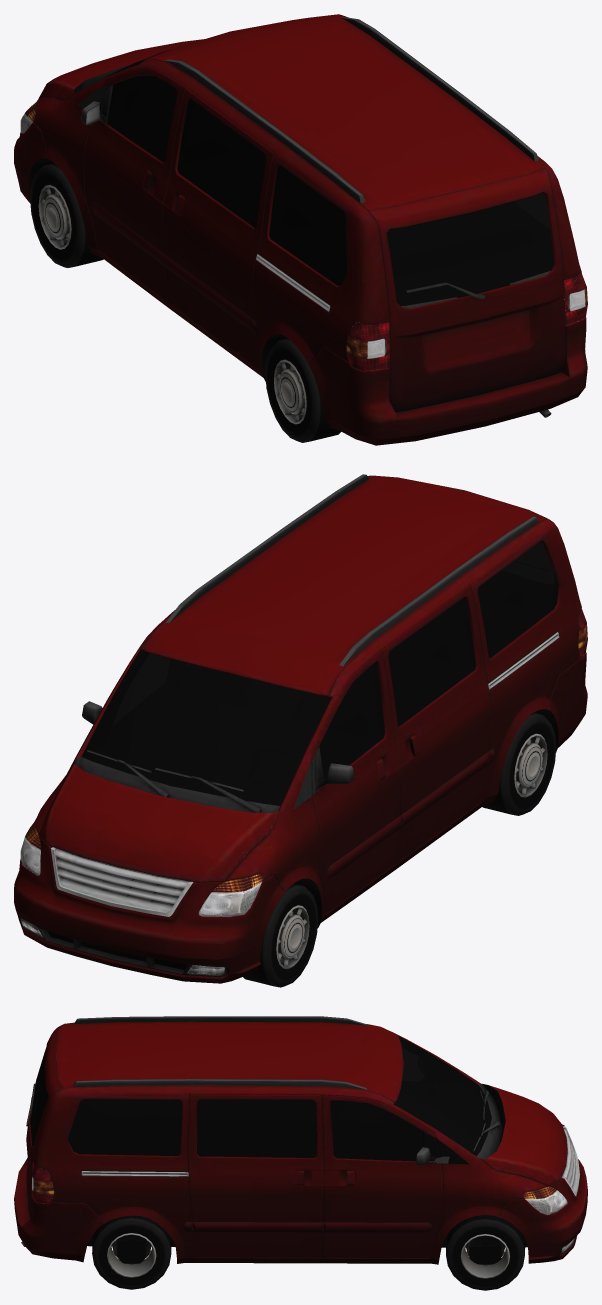
File: minivan.glb
3 renders of one model, top to bottom at view 1: azimuth 30°, elevation 25°; view 2: azimuth 150°, elevation 25°; view 3: azimuth 270°, elevation 25°, orthographic. The views are drawn at different scales.
Parts seen in each view (by area): view 1: minivan_body, wheel_0, wheel_2; view 2: minivan_body, wheel_2, wheel_0; view 3: minivan_body, wheel_3, wheel_1.
Boxes of the visible parts, <box> form: minivan_body: <box>14,14,587,445</box>; wheel_0: <box>265,338,341,442</box>; wheel_2: <box>30,163,103,267</box>; minivan_body: <box>14,474,587,983</box>; wheel_2: <box>243,883,318,987</box>; wheel_0: <box>482,712,556,815</box>; minivan_body: <box>14,1016,587,1264</box>; wheel_3: <box>446,1215,525,1290</box>; wheel_1: <box>92,1215,171,1289</box>.
Size of the model in its own units: 2.1 by 1.98 by 5.19.
4 materials, 3 textured.
